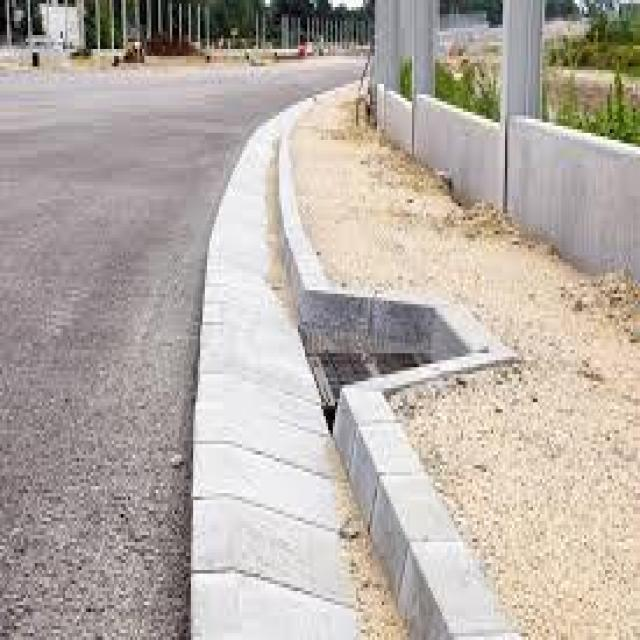bump: (322, 380, 484, 640), (259, 169, 343, 339)
